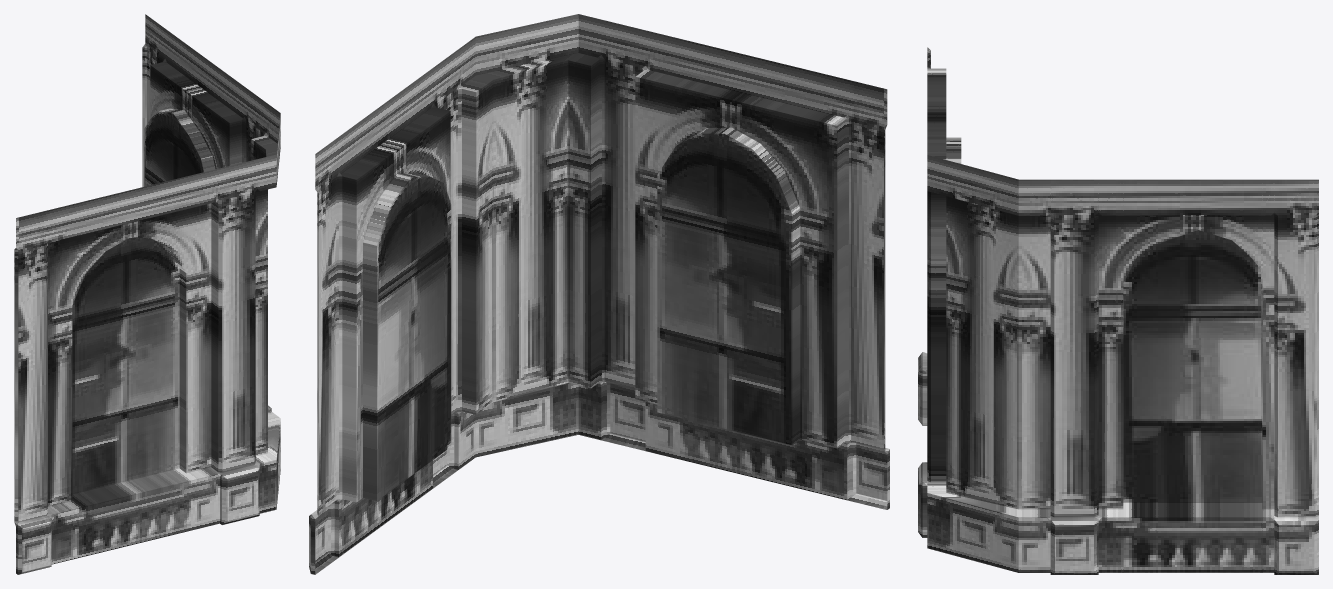
File: corner.glb
3 views of the same model, side by side, from view 1: azimuth 30°, elevation 25°; view 2: azimuth 150°, elevation 25°; view 3: azimuth 270°, elevation 25° (orthographic). The views are drawn at different scales.
Visible parts, largest first — view 1: Cube.002; view 2: Cube.002; view 3: Cube.002.
Boxes of the visible parts, x1=… form: Cube.002: x1=14, y1=14, x2=280, y2=574; Cube.002: x1=309, y1=14, x2=889, y2=574; Cube.002: x1=918, y1=47, x2=1318, y2=574.
Bounding box in the file's own units: 1.51 × 1.64 × 1.51.
Materials: 2 (2 with a texture image).
